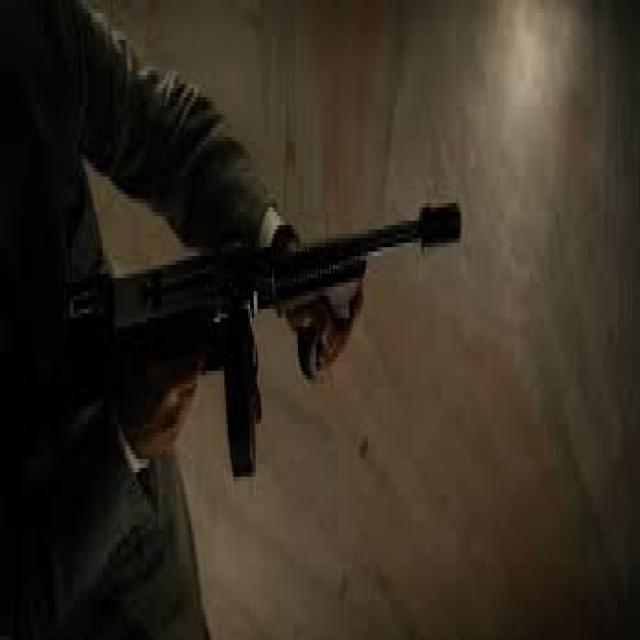Rifle: (63, 192, 464, 478)
